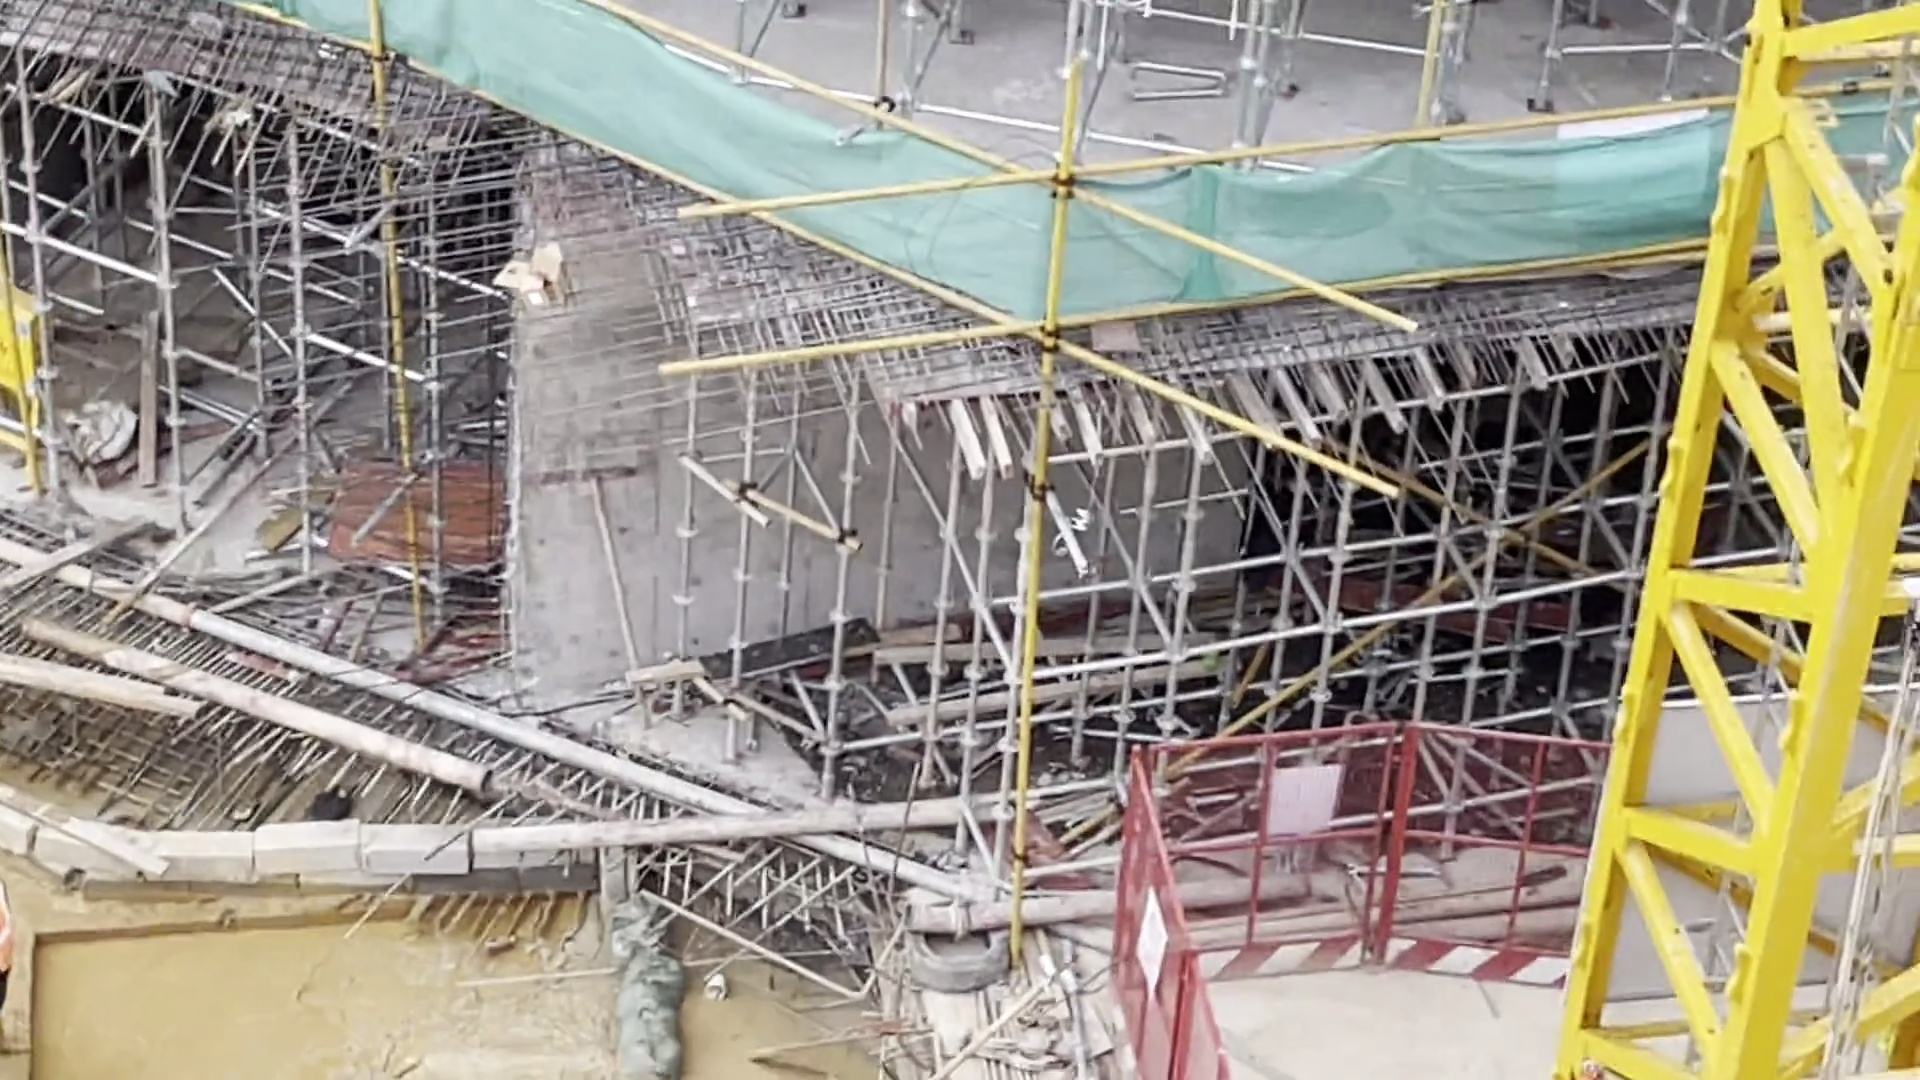ebox: (1, 291, 55, 396)
fence: (1143, 720, 1600, 989), (1084, 753, 1251, 1080)
